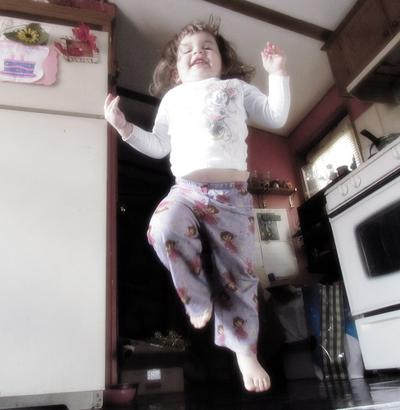person: (103, 16, 293, 389)
